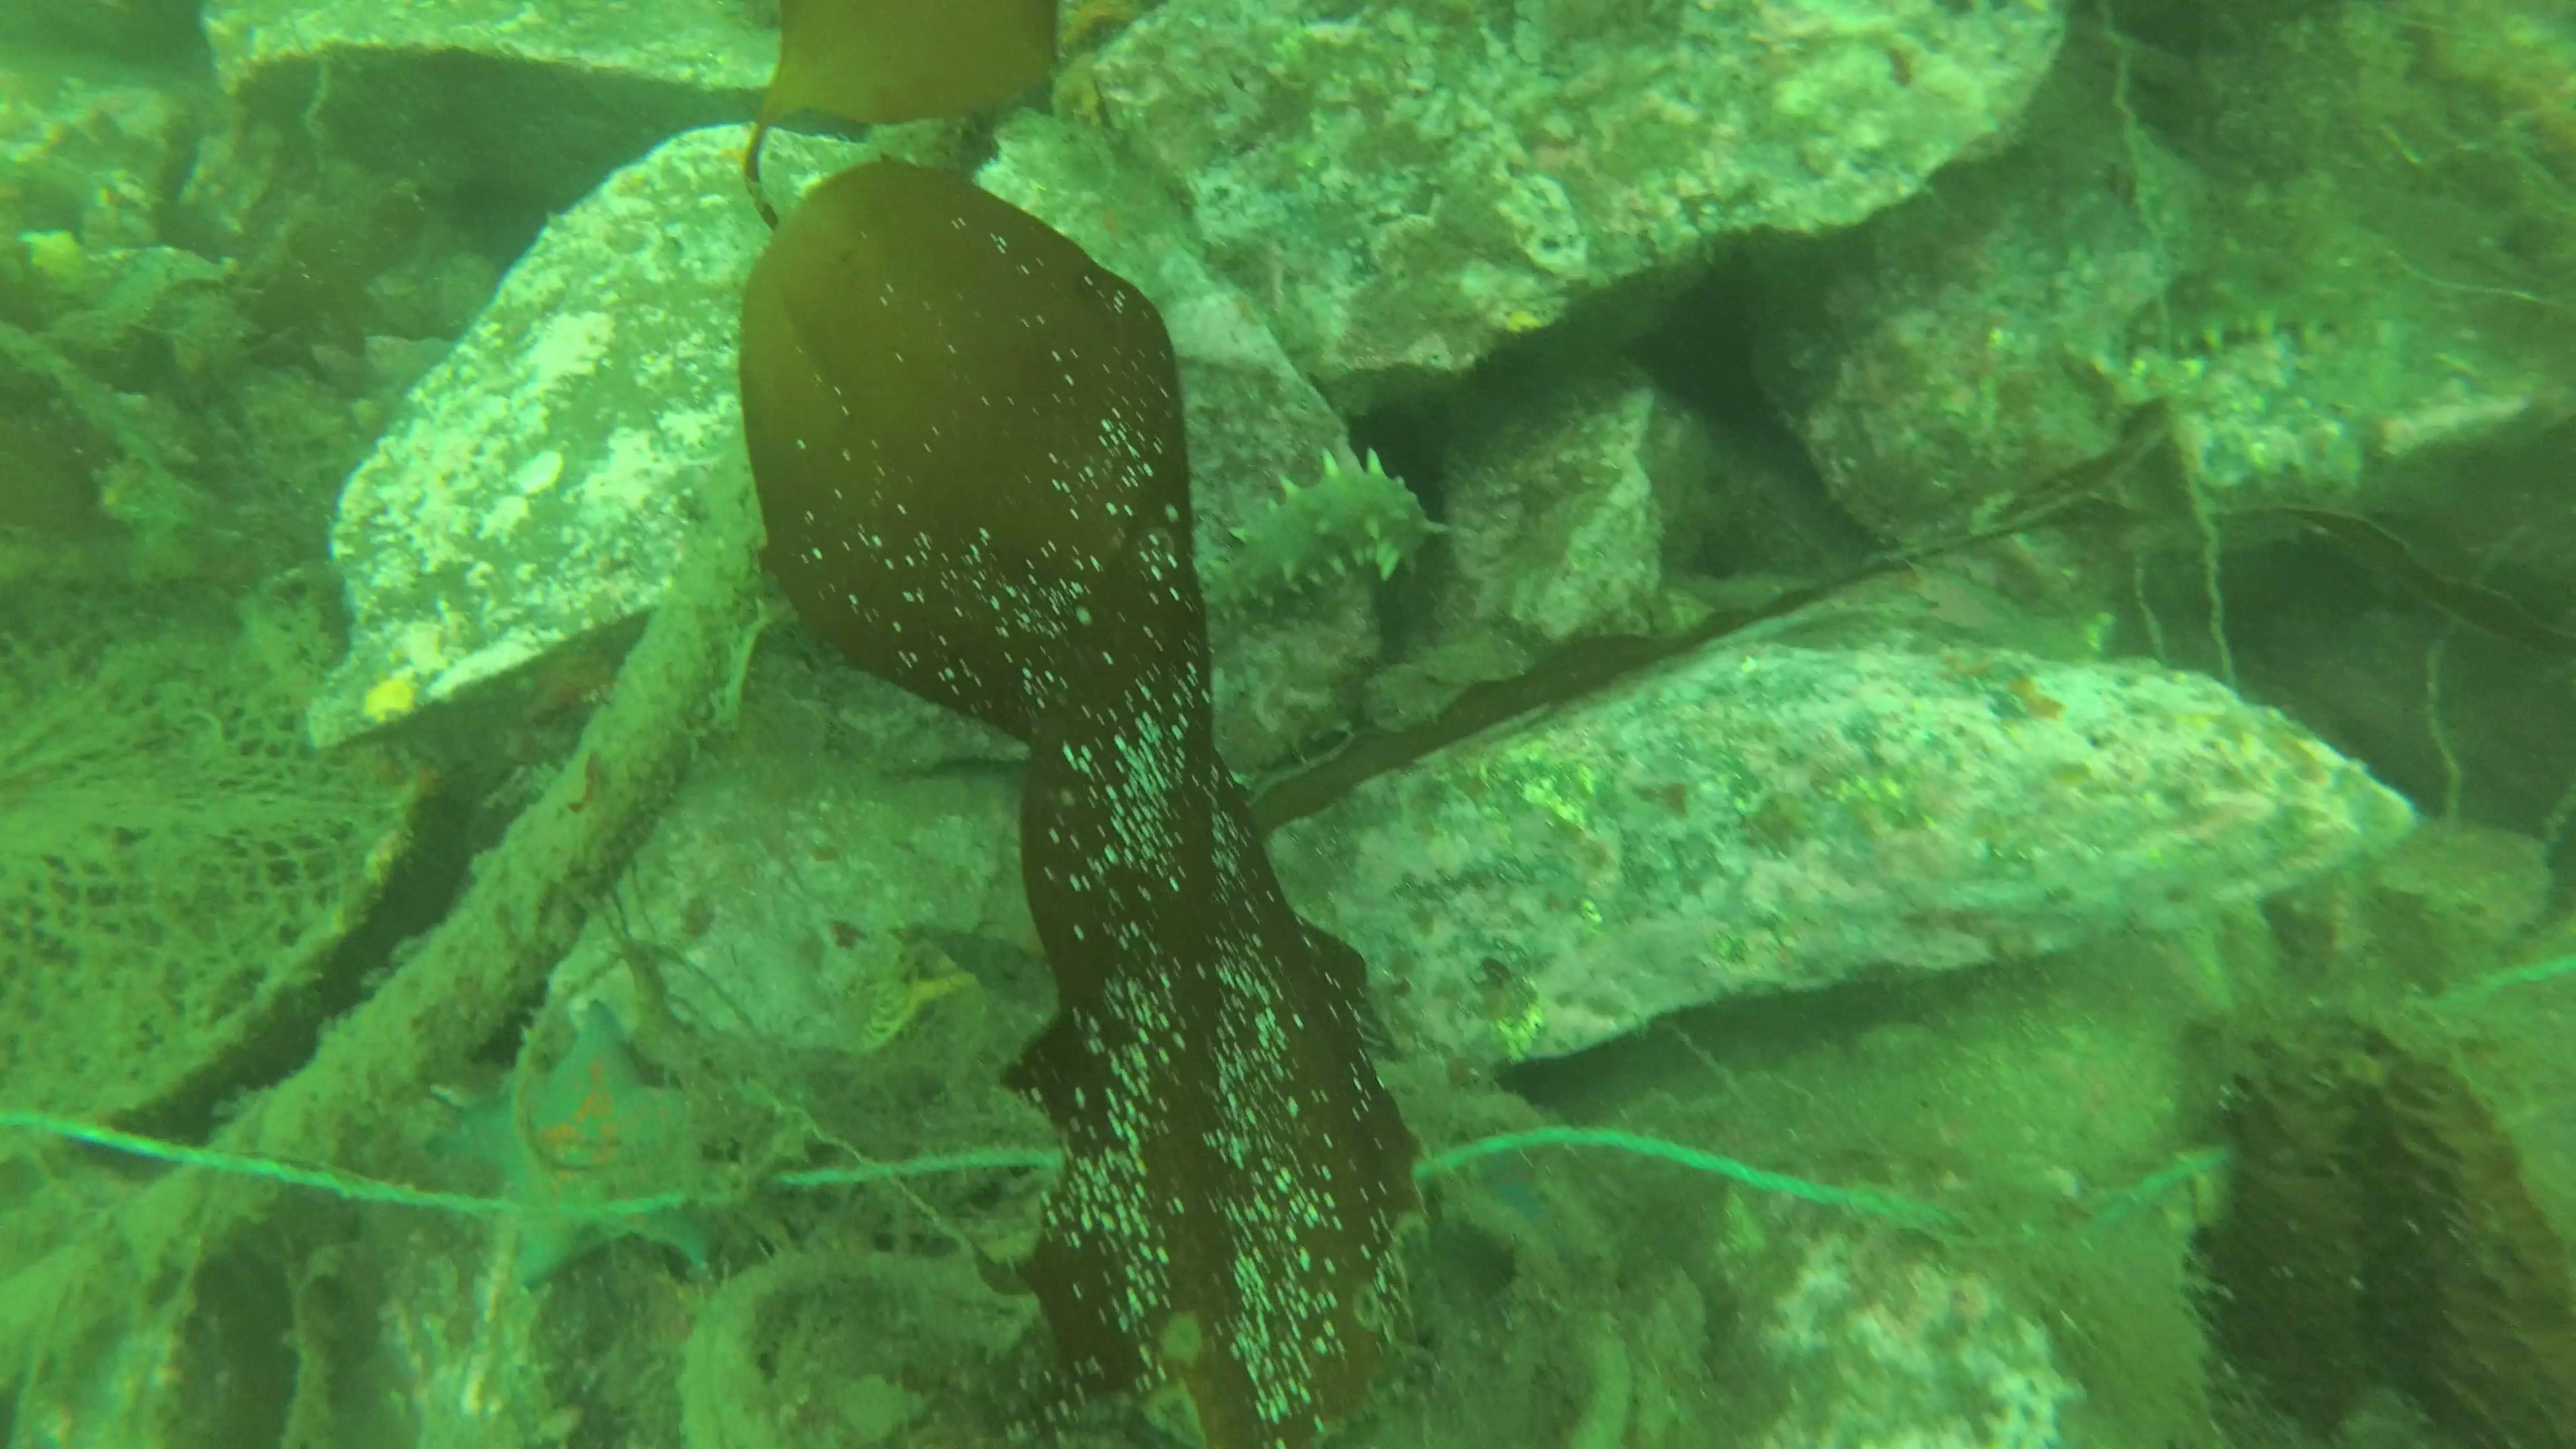holothurian: (1184, 448, 1433, 626), (2111, 265, 2353, 357)
starfish: (439, 1003, 717, 1292)
